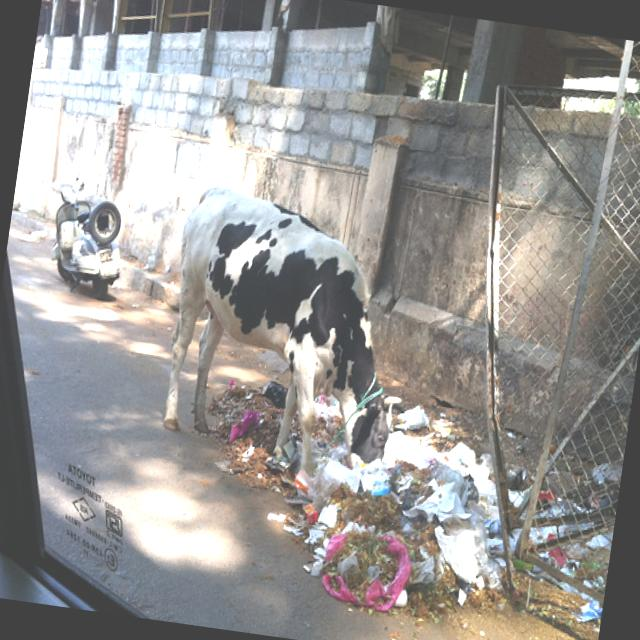Vehicle: (46, 165, 134, 302)
